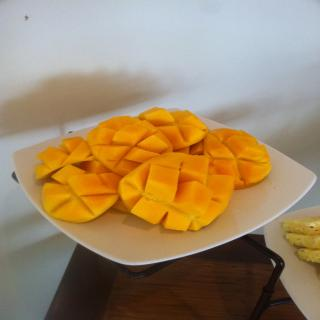Mango: (35, 108, 270, 230), (122, 154, 238, 231)
